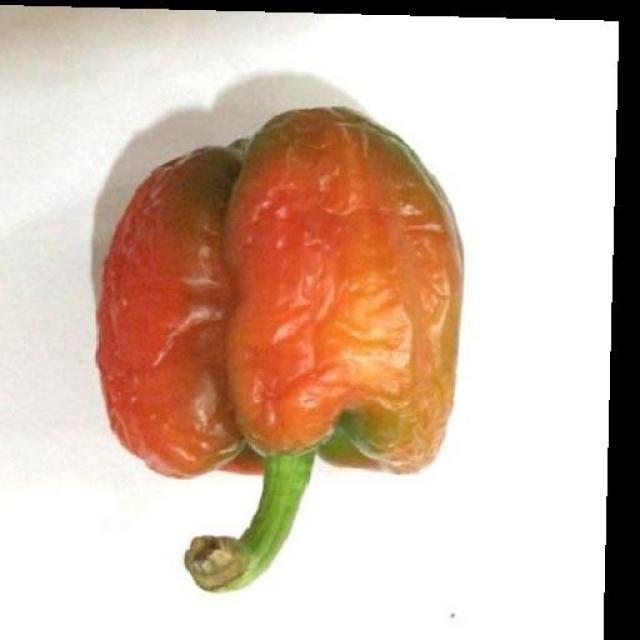Stale_Capsicum: (107, 100, 504, 593)
